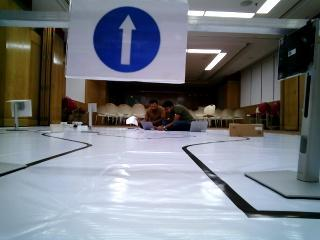straight: (73, 2, 182, 77)
